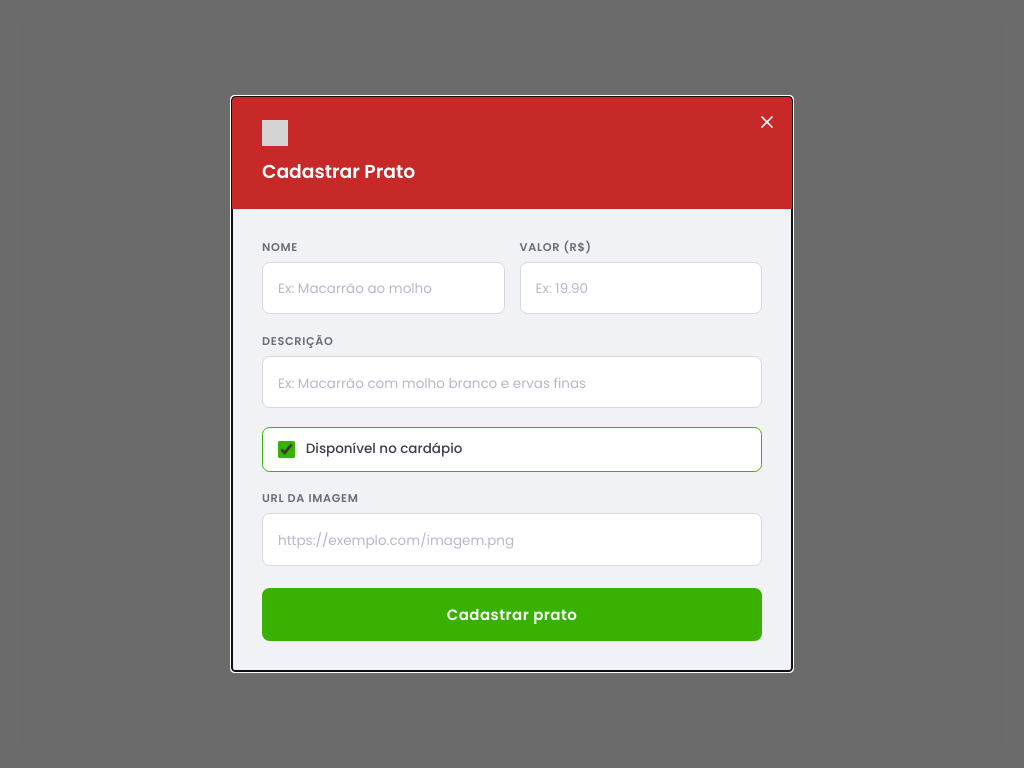
Test case: FoodFormModal — validação › deve exibir erros quando o formulário for enviado vazio
This screenshot has width=1024, height=768.
Click the button "Cadastrar prato".
click(512, 615)  # box [262,588,762,641]
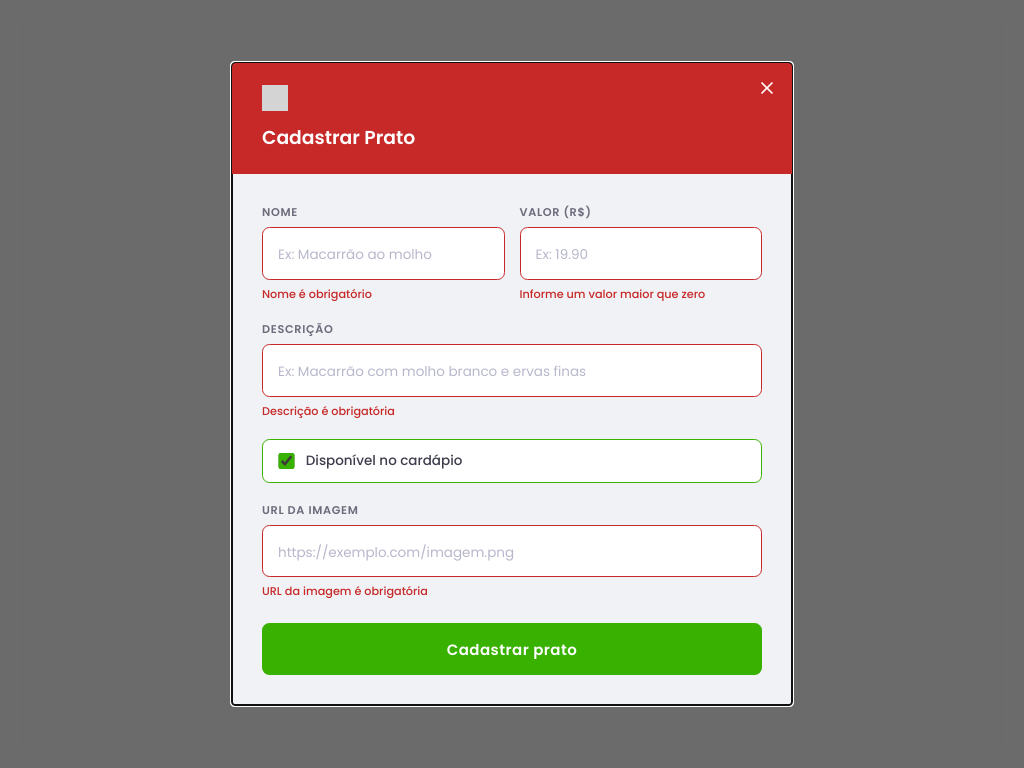
Now the text "Nome é obrigatório" is shown, box [262,286,372,302]
Now the text "Descrição é obrigatória" is shown, box [262,403,395,419]
Now the text "Informe um valor maior que zero" is shown, box [520,286,705,302]
